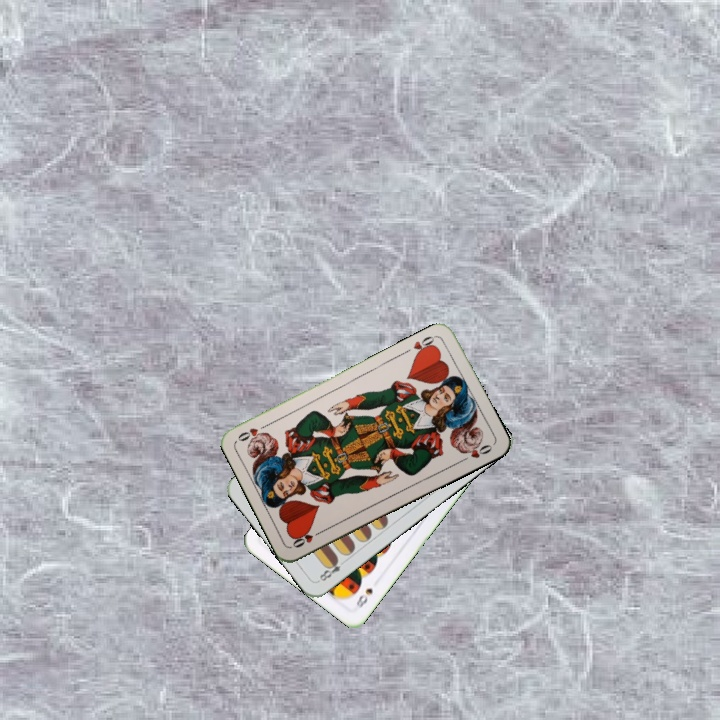E8: (314, 554, 349, 584)
HO: (288, 526, 326, 551), (409, 331, 439, 359)
S8: (352, 584, 376, 611)
